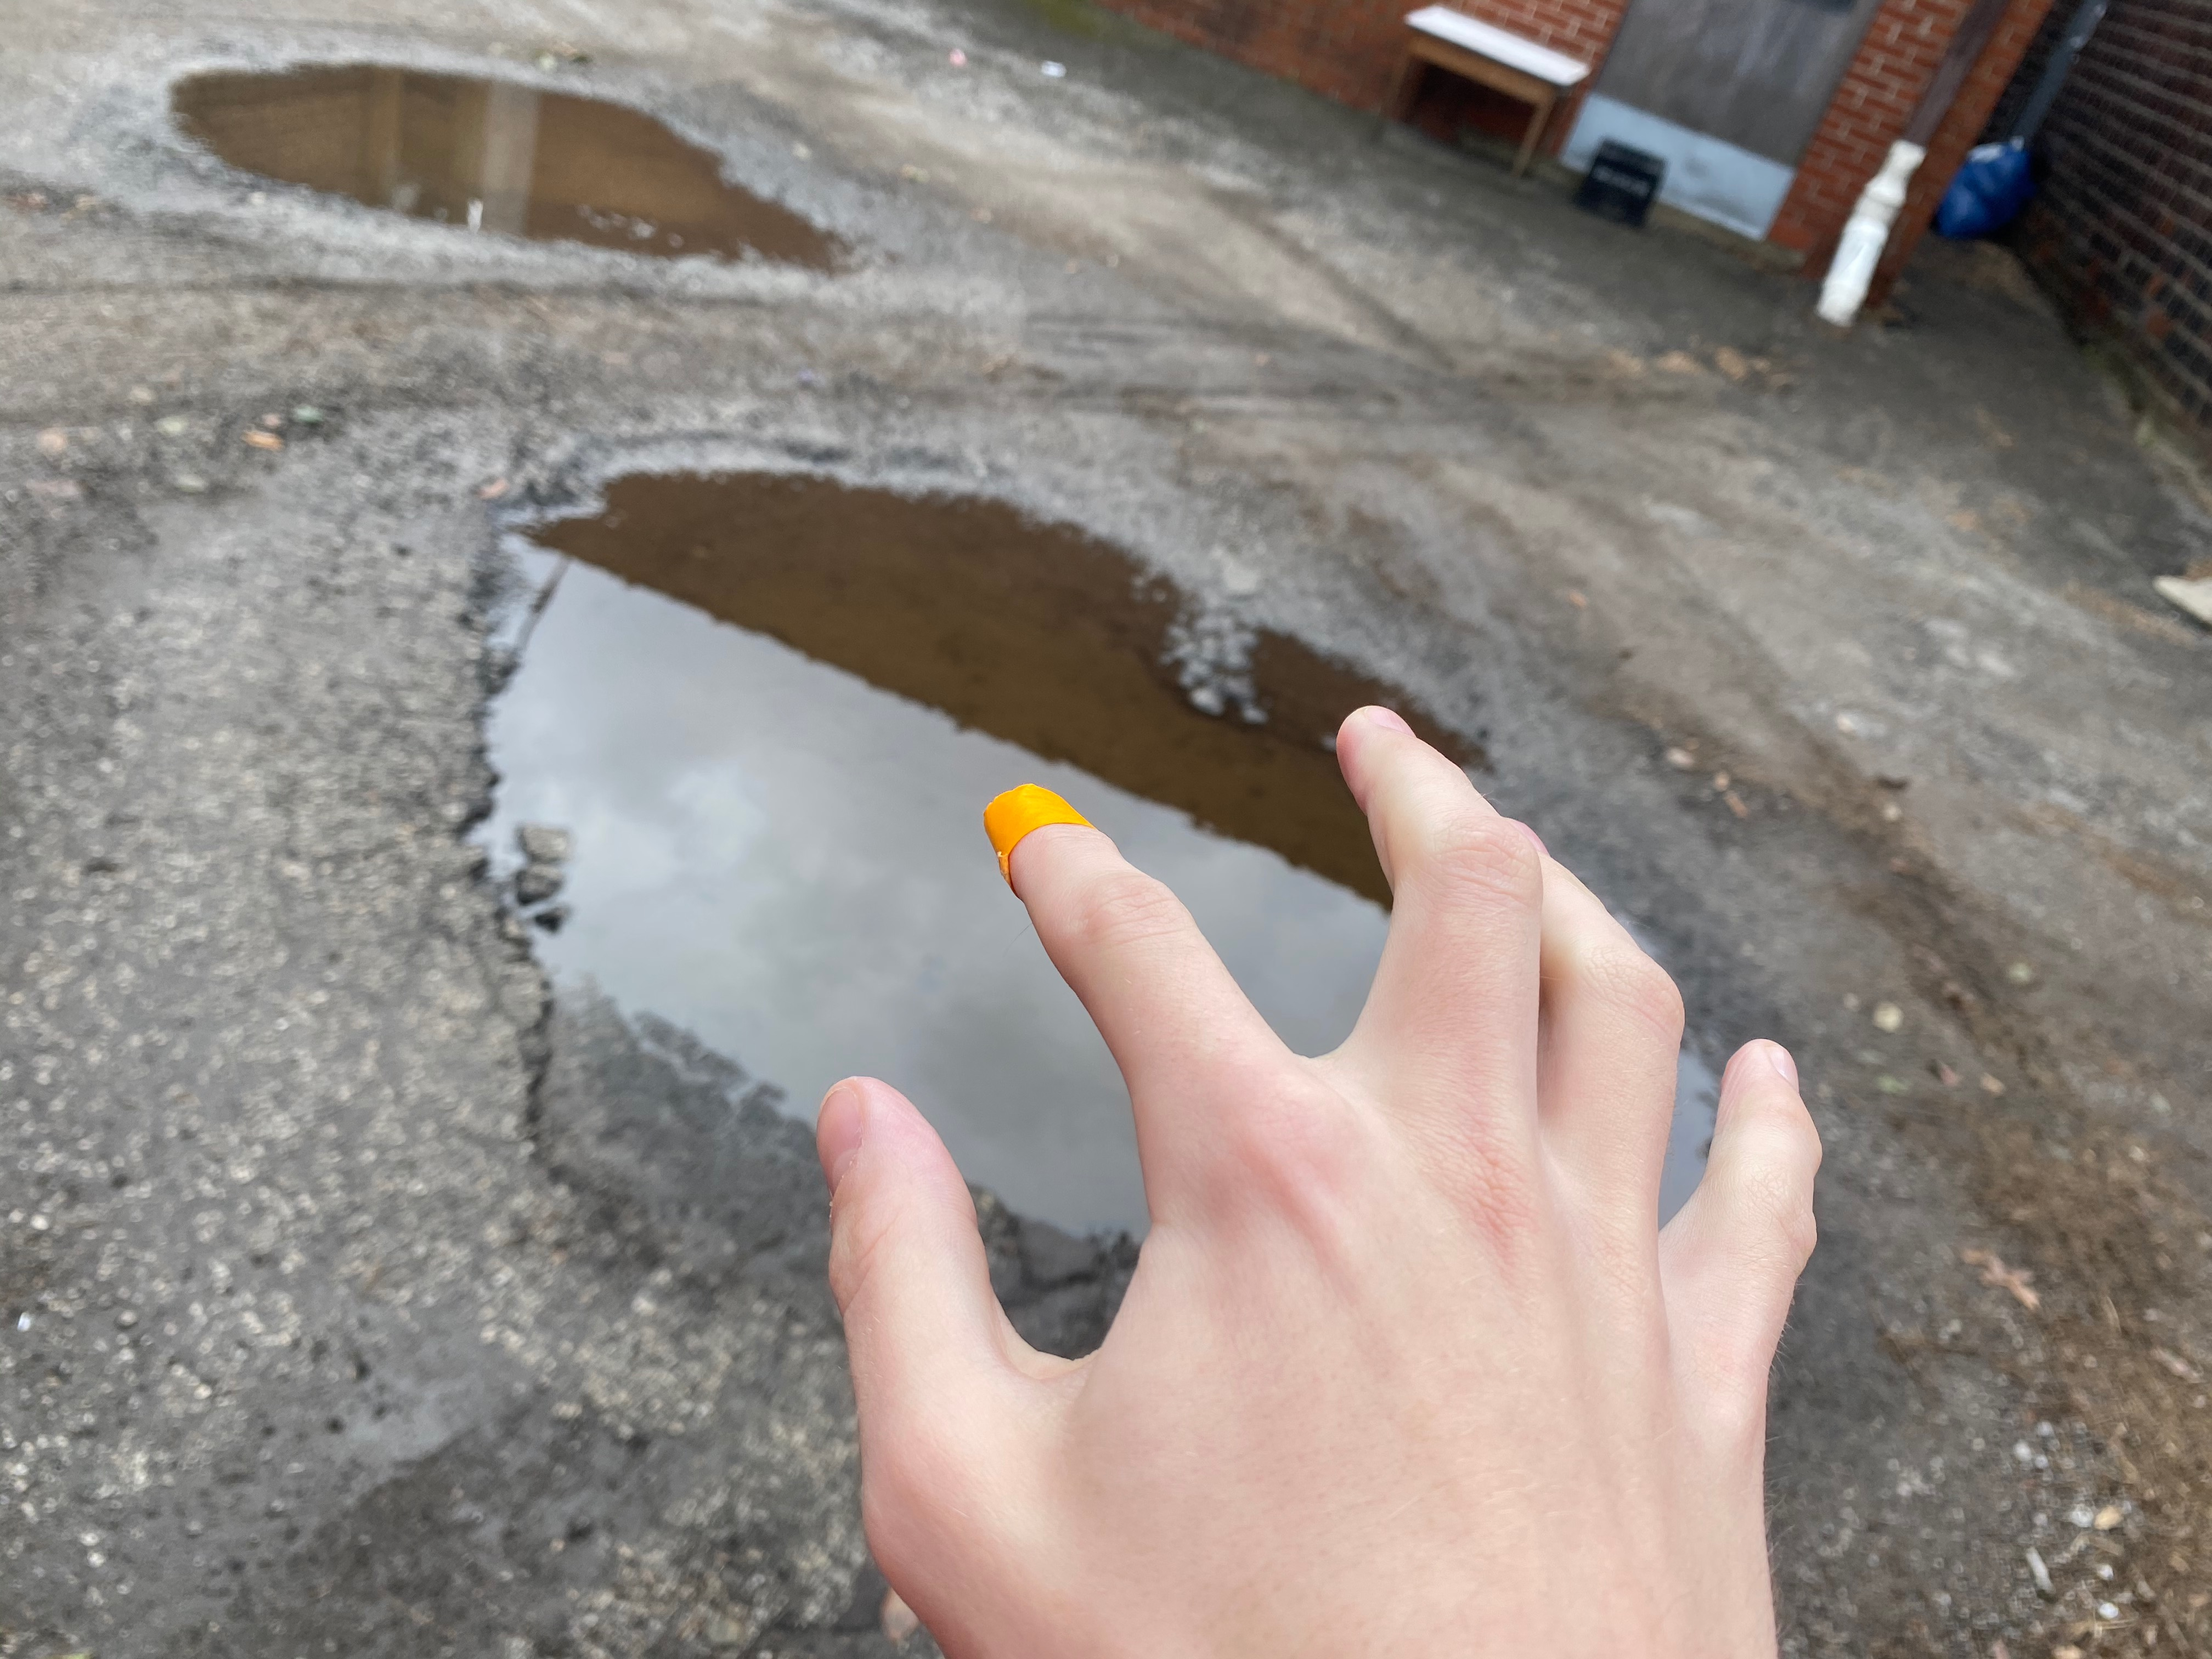fingertip: (953, 775, 1130, 899)
